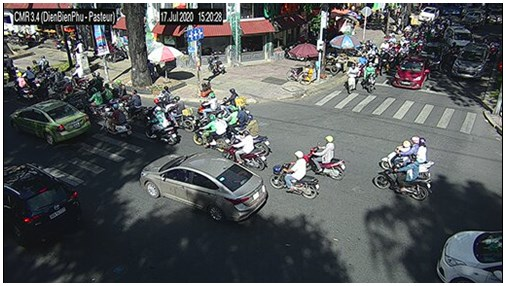xe_cuu_thuong: (442, 26, 473, 47)
xe_hoi: (139, 153, 268, 221), (3, 164, 82, 245), (11, 99, 91, 144), (436, 230, 502, 284), (392, 55, 432, 90), (453, 43, 488, 81), (419, 6, 439, 22)
xe_may: (373, 154, 433, 202), (269, 151, 319, 199), (380, 135, 434, 174), (304, 136, 346, 181), (222, 130, 266, 171), (145, 107, 179, 145), (240, 115, 272, 154), (99, 104, 131, 138), (200, 113, 228, 151), (170, 96, 195, 131), (345, 62, 358, 93), (363, 62, 376, 92)
